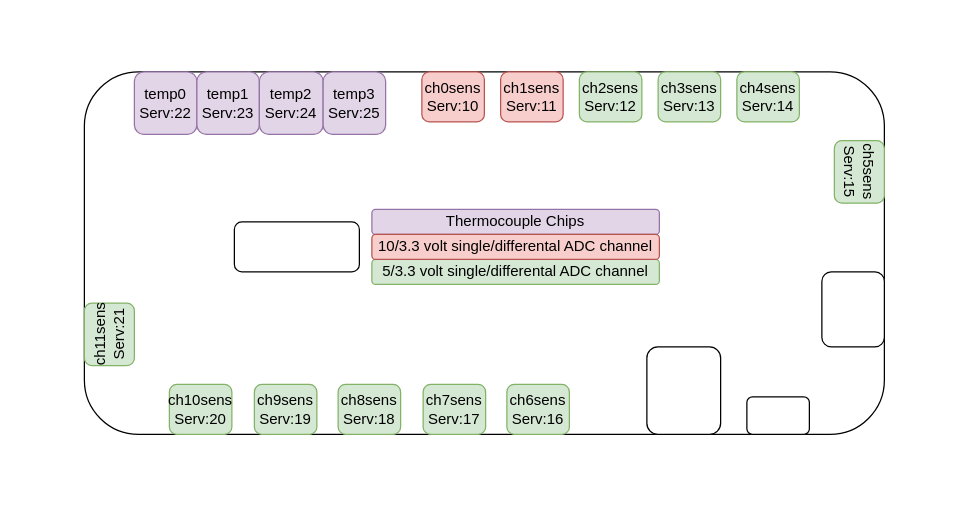
Some shapes in this 968 by 505 pixel diagram are drawn without their labels. The centre of each missing label's shape, as x and y in pixels:
"Packet Descriptor Service ID" goes at point 296,246.
"RBUS" goes at point 852,309.
"SD CARD" goes at point 683,390.
"USB-C" goes at point 777,415.
